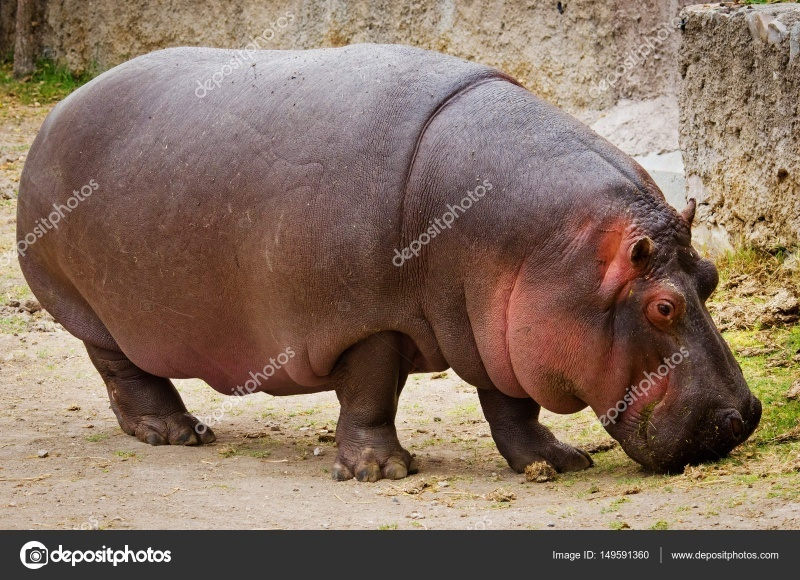hipopotamo: (3, 27, 770, 492)
